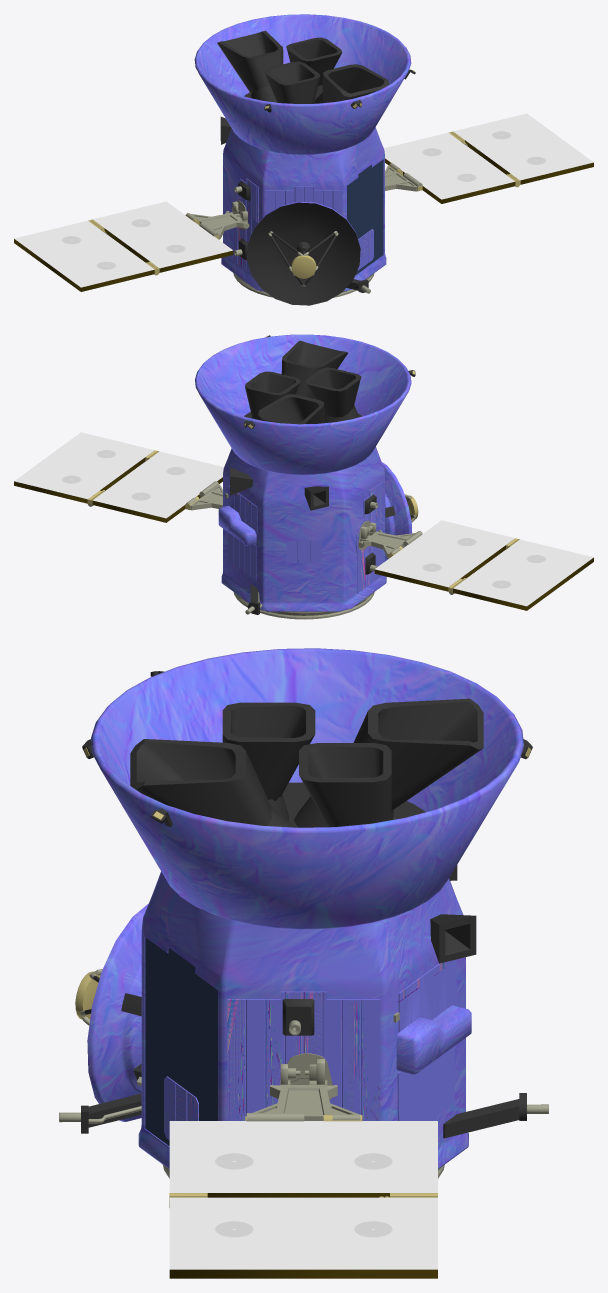
File: TESS.glb
3 renders of one model, top to bottom at view 1: azimuth 30°, elevation 25°; view 2: azimuth 150°, elevation 25°; view 3: azimuth 270°, elevation 25°, orthographic. The views are drawn at different scales.
Parts seen in each view (by area): view 1: instruments, BUS, reflectors; view 2: BUS, instruments, reflectors; view 3: BUS, instruments, reflectors.
Part boxes in pixels (x1,y1,x2,y2): instruments: (14,30,593,305); BUS: (194,14,411,291); reflectors: (233,178,373,275); BUS: (195,334,412,611); instruments: (14,335,593,619); reflectors: (228,482,382,593); BUS: (87,648,523,1168); instruments: (59,671,548,1278); reflectors: (164,959,456,1140).
Bounding box in the file's own units: 7.39 × 3.1 × 3.06.
5 materials, 3 textured.
